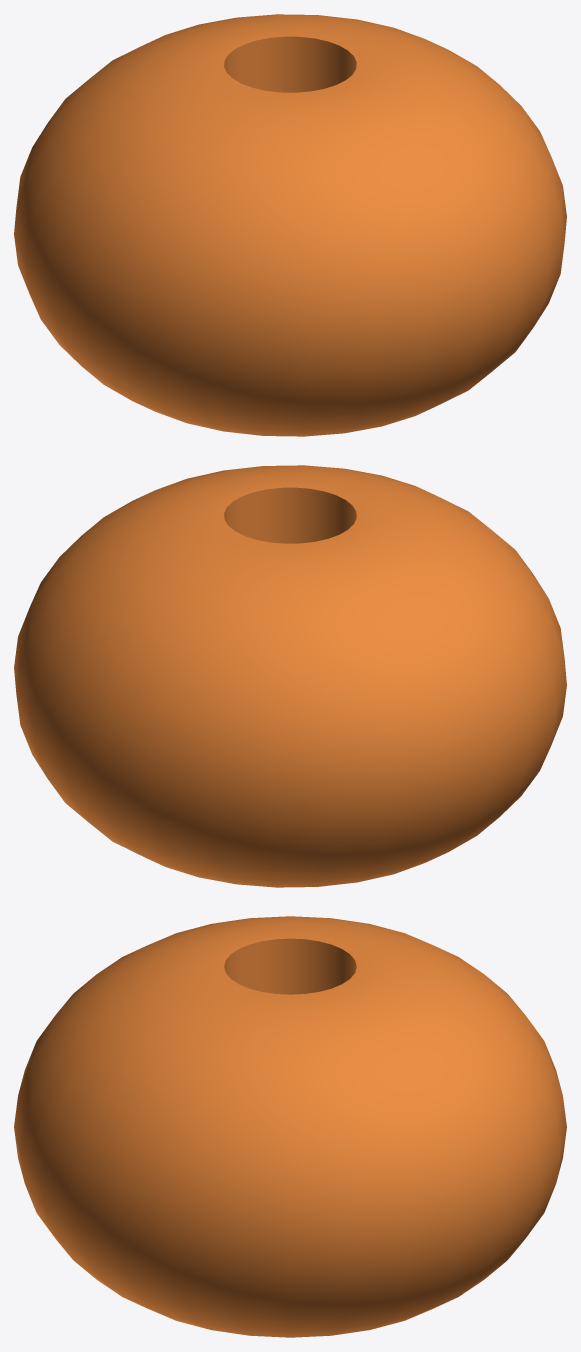
Rendered from bead.glb.
The picture shows the model from 3 angles, top to bottom: view 1: azimuth 30°, elevation 25°; view 2: azimuth 150°, elevation 25°; view 3: azimuth 270°, elevation 25°; orthographic projection.
Visible parts, largest first — view 1: bead; view 2: bead; view 3: bead.
Part boxes in pixels (bbox=[...]): bead: bbox=[14, 14, 566, 436]; bead: bbox=[14, 465, 566, 887]; bead: bbox=[14, 916, 566, 1337].
Size of the model in its own units: 0.05 by 0.032 by 0.05.
